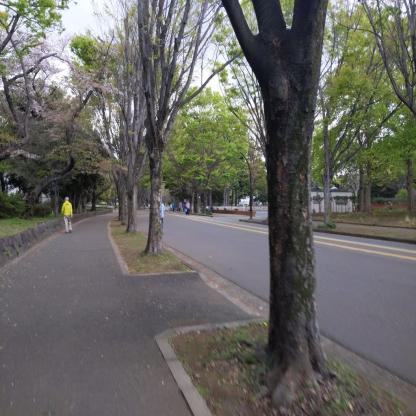Someiyoshino: (0, 24, 132, 176)
